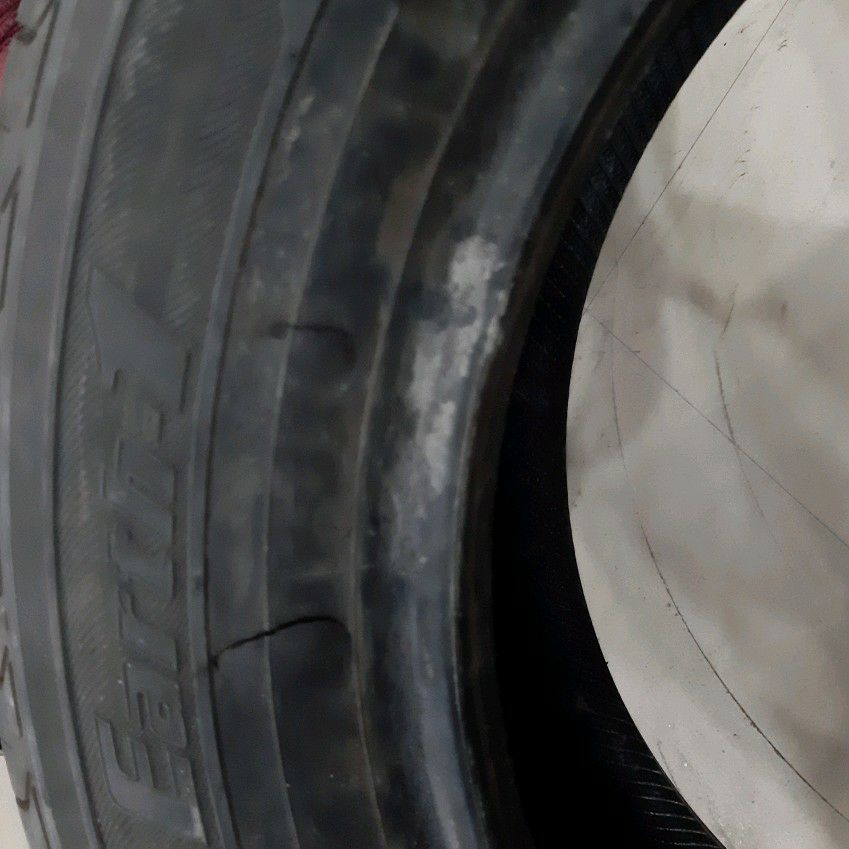cut: (206, 613, 360, 679)
